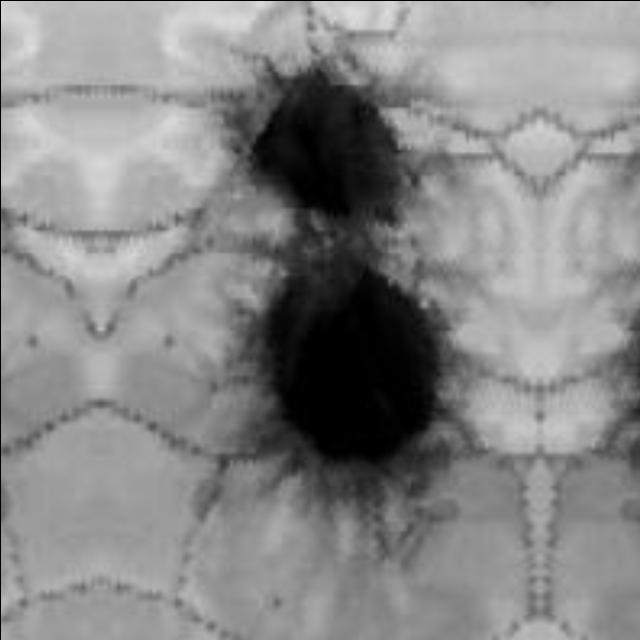good_void: (150, 186, 534, 568), (219, 47, 428, 237), (160, 330, 177, 347), (267, 593, 284, 609), (24, 331, 41, 347)
